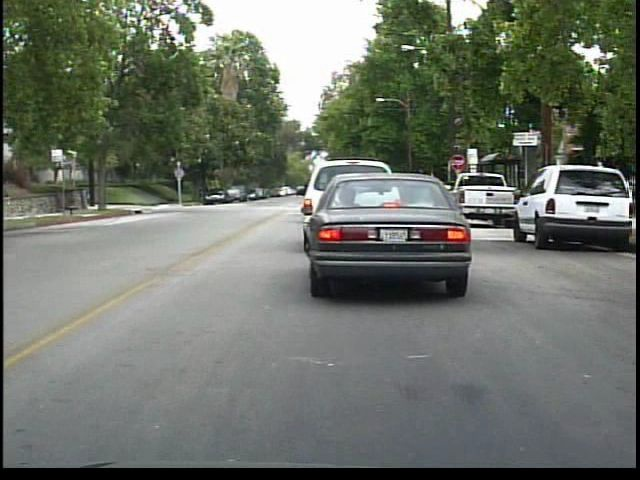person: (195, 180, 210, 205)
